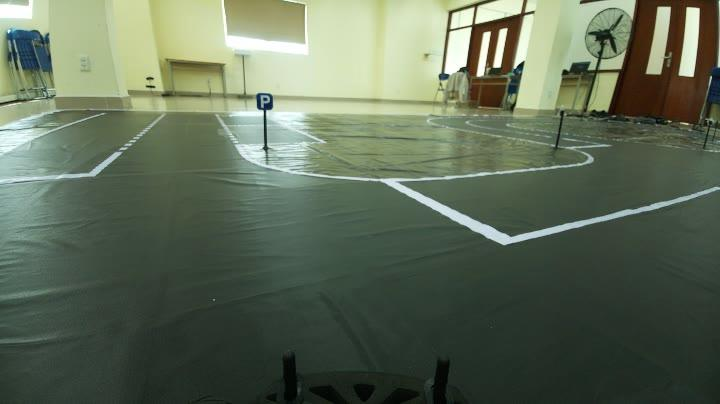parking: (252, 88, 278, 111)
